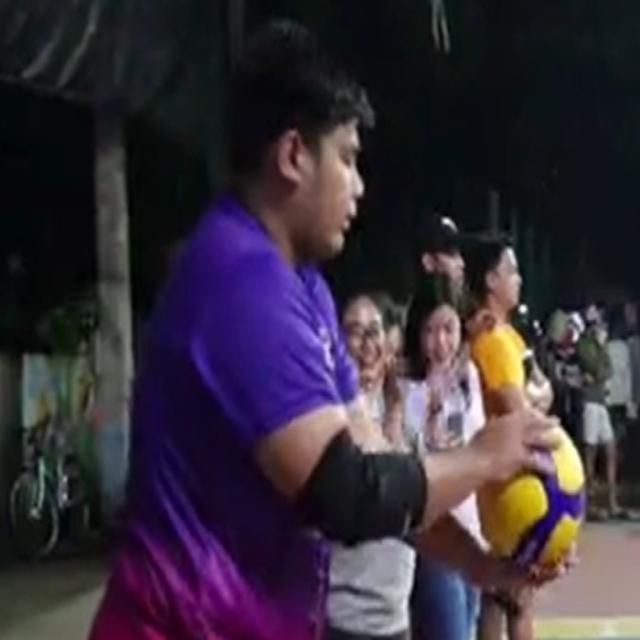volleyball: (476, 426, 586, 570)
